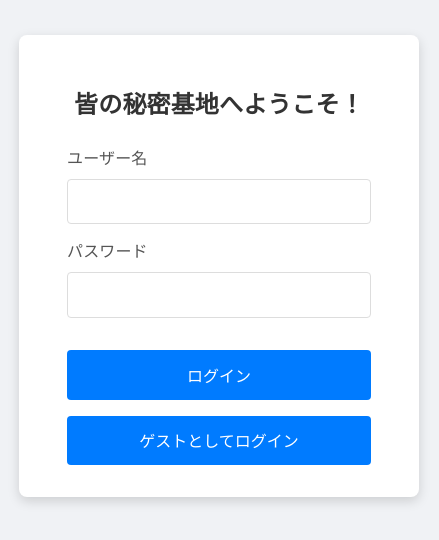
Test: Login Component › Failure Cases › should display error message when guest login fails
This screenshot has width=439, height=540.
# Click guest login button
What coordinates should you click on to do the following:
click the button "ゲストとしてログイン"
I would click on:
 (219, 440)
Its box is [67,416,371,465].
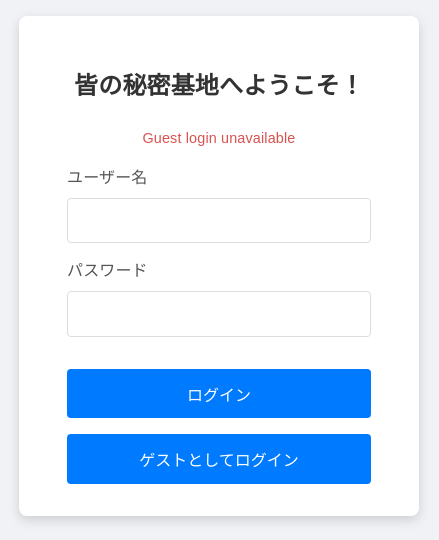
Result: the text "Guest login unavailable" is shown at [142,130,296,146]
